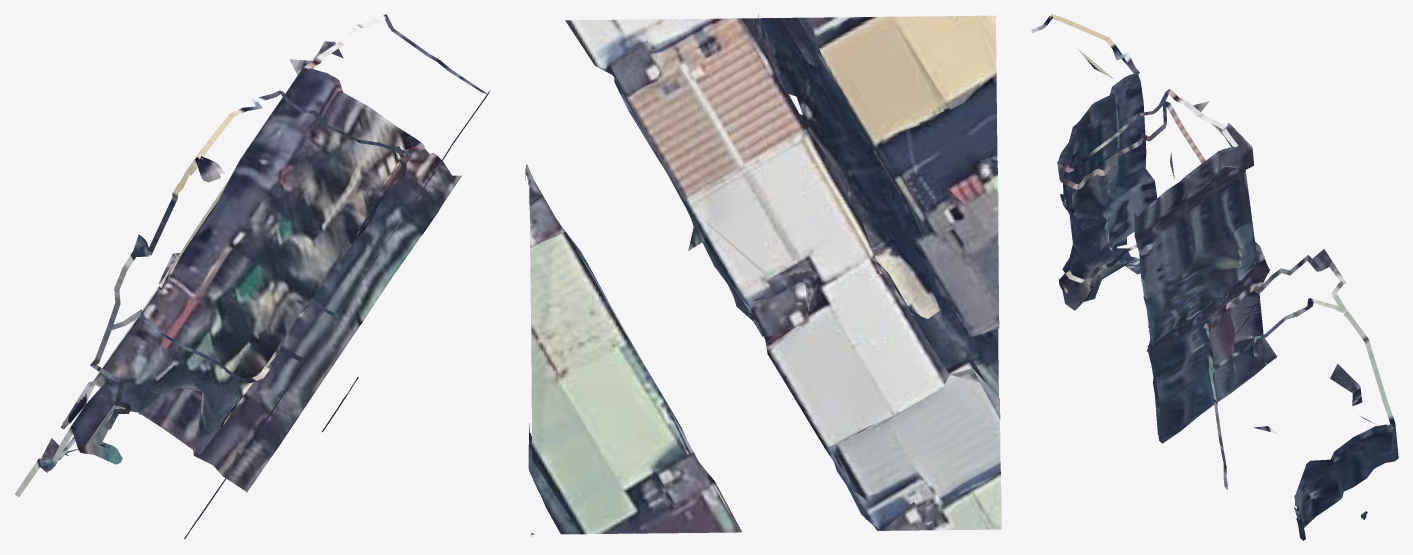
The picture shows the model from 3 angles, left to right: view 1: azimuth 30°, elevation 25°; view 2: azimuth 150°, elevation 25°; view 3: azimuth 270°, elevation 25°; orthographic projection. The views are drawn at different scales.
Size of the model in its own units: 41.7 by 40.05 by 32.12.
Materials: 2 (2 with a texture image).
